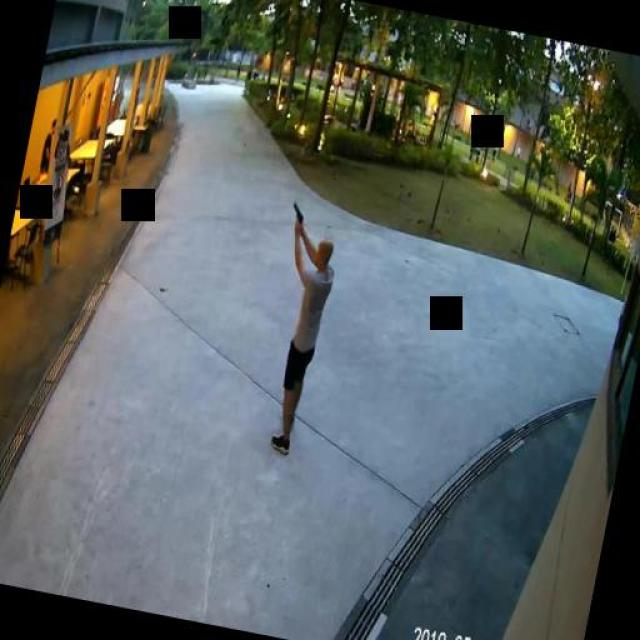gun: (288, 199, 306, 230)
